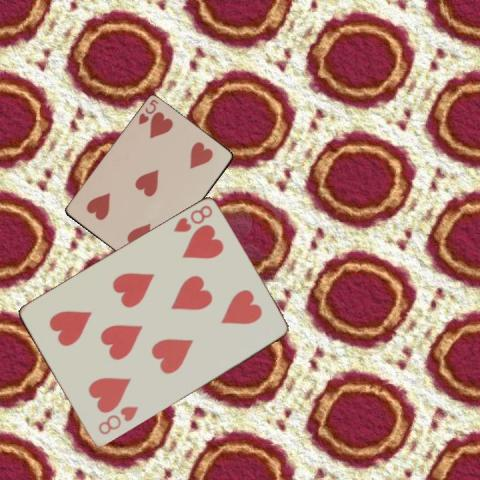5h: (135, 96, 160, 126)
8h: (95, 403, 140, 437), (170, 202, 214, 234)
